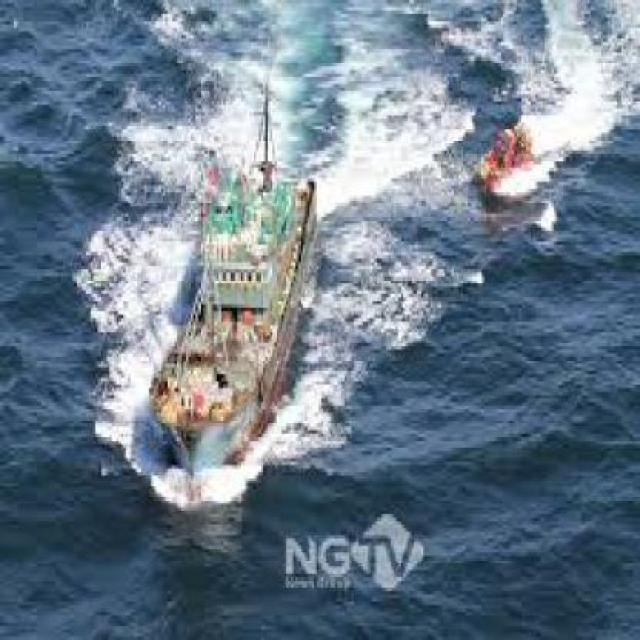fish-b: (129, 57, 336, 519)
